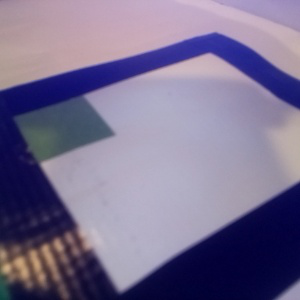bottom_right: (1, 90, 115, 162)
